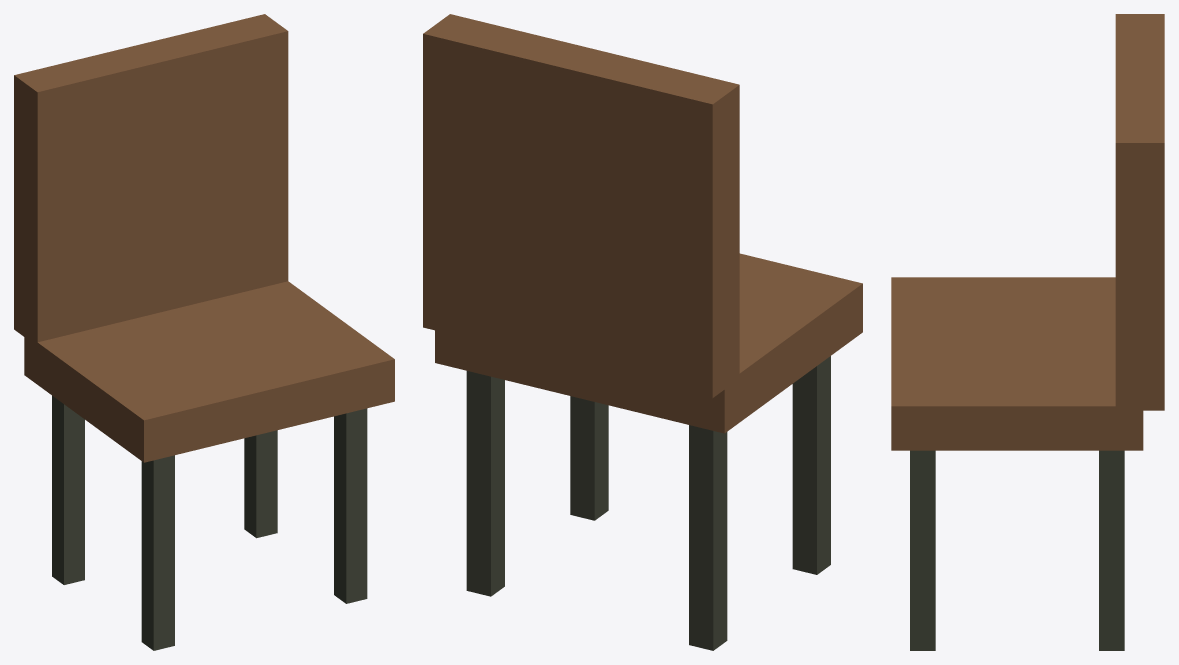
Rendered from chair.glb.
3 renders of one model, left to right at view 1: azimuth 30°, elevation 25°; view 2: azimuth 150°, elevation 25°; view 3: azimuth 270°, elevation 25°, orthographic. The views are drawn at different scales.
Parts seen in each view (by area): view 1: REF-L04-R01-chair-part-2, REF-L04-R01-chair-part-1, REF-L04-R01-chair-part-4, REF-L04-R01-chair-part-6, REF-L04-R01-chair-part-3, REF-L04-R01-chair-part-5; view 2: REF-L04-R01-chair-part-2, REF-L04-R01-chair-part-1, REF-L04-R01-chair-part-5, REF-L04-R01-chair-part-3, REF-L04-R01-chair-part-4, REF-L04-R01-chair-part-6; view 3: REF-L04-R01-chair-part-1, REF-L04-R01-chair-part-2, REF-L04-R01-chair-part-5, REF-L04-R01-chair-part-6.
Part boxes in pixels (x1=…): REF-L04-R01-chair-part-2: x1=14, y1=14, x2=288, y2=346; REF-L04-R01-chair-part-1: x1=24, y1=281, x2=394, y2=462; REF-L04-R01-chair-part-4: x1=141, y1=455, x2=174, y2=650; REF-L04-R01-chair-part-6: x1=334, y1=408, x2=367, y2=603; REF-L04-R01-chair-part-3: x1=52, y1=395, x2=84, y2=584; REF-L04-R01-chair-part-5: x1=244, y1=430, x2=277, y2=538; REF-L04-R01-chair-part-2: x1=423, y1=14, x2=739, y2=397; REF-L04-R01-chair-part-1: x1=435, y1=253, x2=862, y2=433; REF-L04-R01-chair-part-5: x1=466, y1=371, x2=504, y2=596; REF-L04-R01-chair-part-3: x1=689, y1=425, x2=727, y2=650; REF-L04-R01-chair-part-4: x1=792, y1=356, x2=830, y2=574; REF-L04-R01-chair-part-6: x1=570, y1=396, x2=608, y2=520; REF-L04-R01-chair-part-1: x1=891, y1=277, x2=1143, y2=450; REF-L04-R01-chair-part-2: x1=1115, y1=14, x2=1164, y2=410; REF-L04-R01-chair-part-5: x1=1099, y1=450, x2=1124, y2=650; REF-L04-R01-chair-part-6: x1=910, y1=450, x2=935, y2=650.
Size of the model in its own units: 0.1548 by 0.29 by 0.1389.
